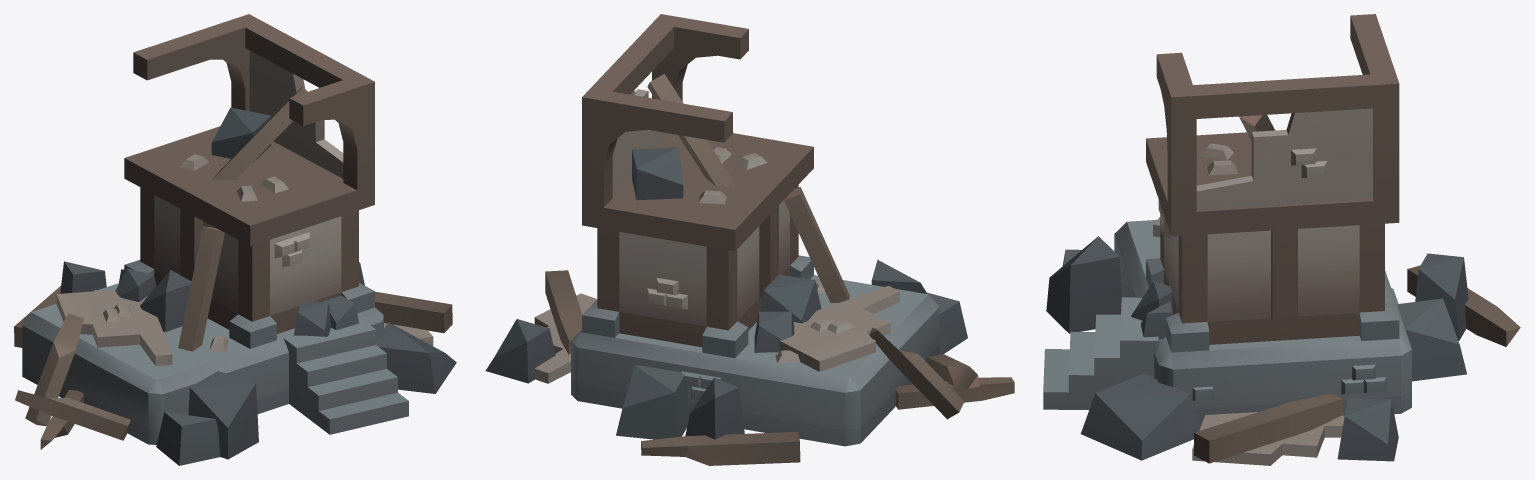
The model's file is kay-ruina.gltf.
The picture shows the model from 3 angles, left to right: view 1: azimuth 30°, elevation 25°; view 2: azimuth 150°, elevation 25°; view 3: azimuth 270°, elevation 25°; orthographic projection. The views are drawn at different scales.
Parts seen in each view (by area): view 1: building_destroyed; view 2: building_destroyed; view 3: building_destroyed.
Part boxes in pixels (box(x1,y1,x2,y2)): building_destroyed: box(14, 14, 456, 465); building_destroyed: box(485, 14, 1014, 465); building_destroyed: box(1043, 14, 1520, 465).
Size of the model in its own units: 7.7 by 4.97 by 6.53.
Materials: 1 (1 with a texture image).
